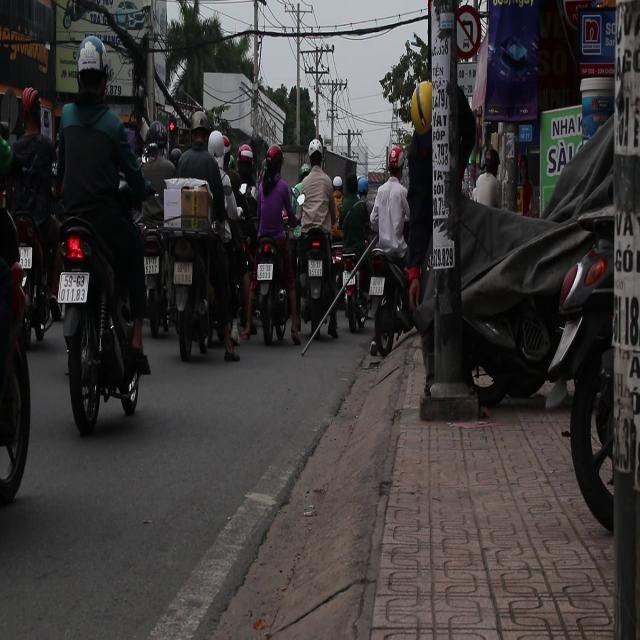motorbike: (54, 200, 148, 435), (164, 216, 226, 368), (300, 220, 339, 342), (256, 228, 294, 340)
